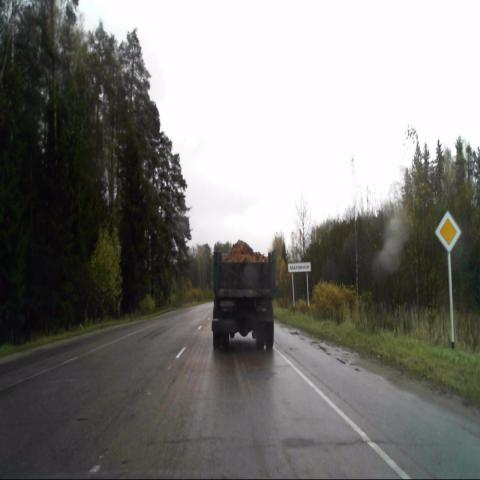2_1: (435, 211, 461, 252)
